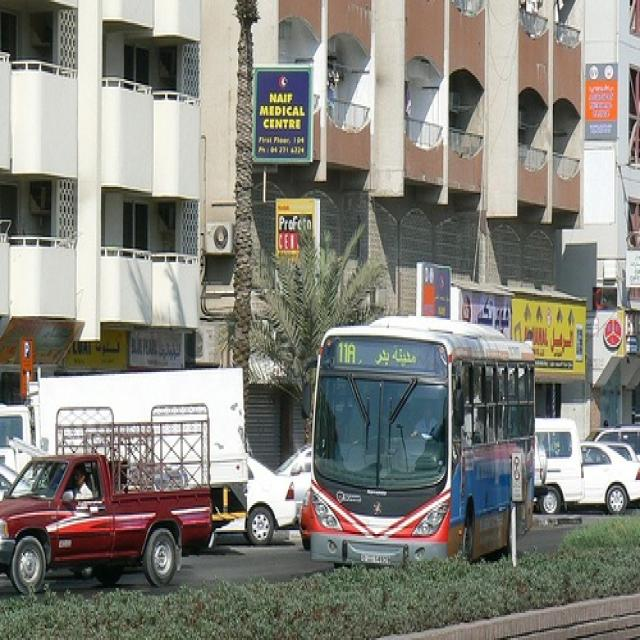bus: (311, 316, 535, 561)
car: (0, 401, 212, 595), (535, 416, 584, 513), (246, 449, 294, 546), (581, 439, 639, 516), (274, 442, 311, 522), (586, 424, 639, 459), (532, 434, 546, 499), (300, 486, 310, 555), (612, 439, 635, 459)
